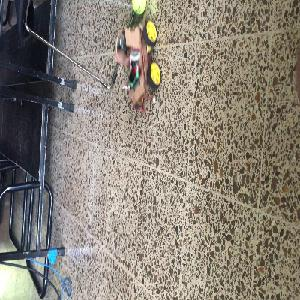Ball: (132, 0, 146, 15)
Robot: (115, 18, 161, 110)
